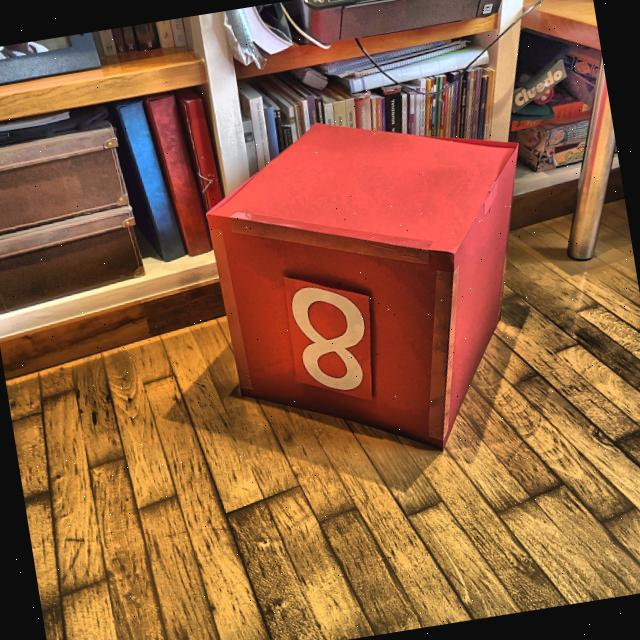eight: (287, 277, 375, 402)
red box: (198, 94, 538, 482)
